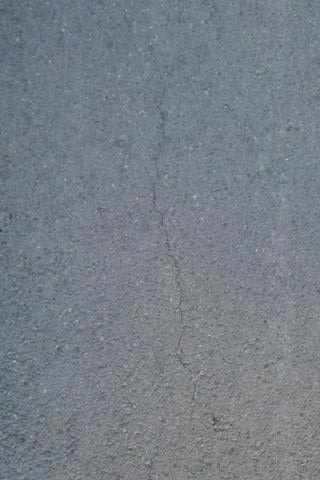A: (150, 108, 199, 420)
